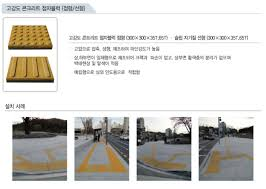guide_blocks: (15, 160, 65, 169), (81, 164, 123, 172), (146, 158, 183, 167), (84, 143, 95, 163), (210, 151, 219, 173), (105, 148, 117, 164)
